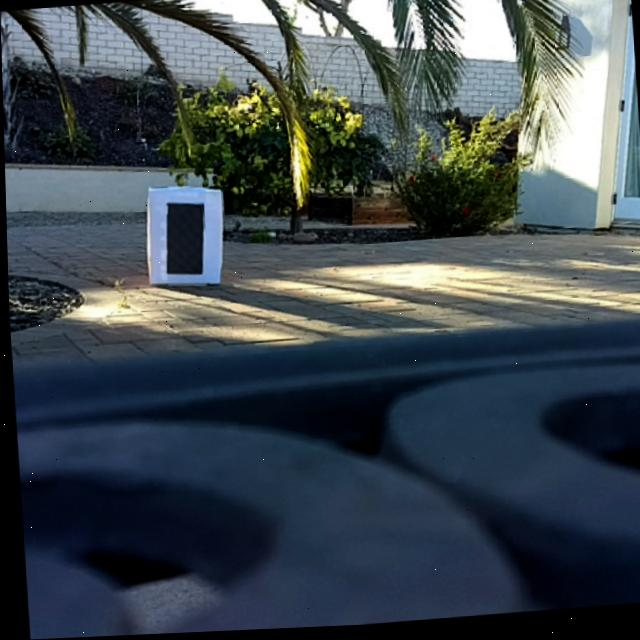led: (162, 202, 205, 280)
